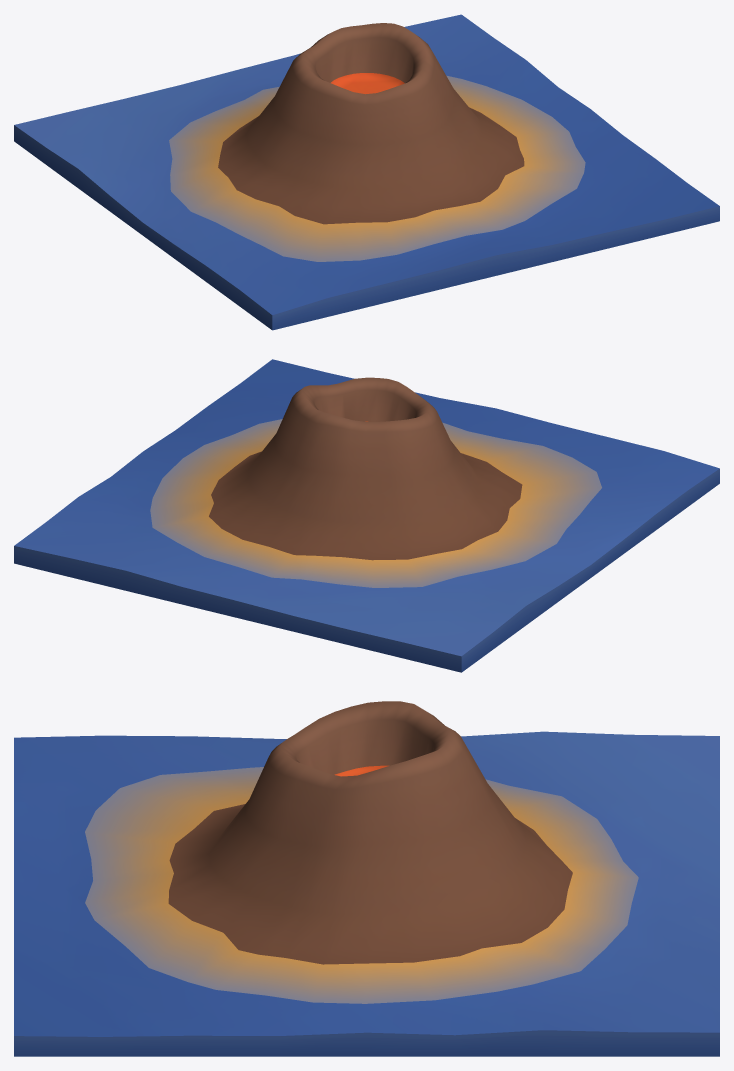
File: OBJ_VolcanoModel.fbx
3 renders of one model, top to bottom at view 1: azimuth 30°, elevation 25°; view 2: azimuth 150°, elevation 25°; view 3: azimuth 270°, elevation 25°, orthographic. The views are drawn at different scales.
Visible parts, largest first — view 1: OBJ_Volcano; view 2: OBJ_Volcano; view 3: OBJ_Volcano.
Boxes of the visible parts, x1,y1,x2,y2 form: OBJ_Volcano: (14, 14, 719, 330); OBJ_Volcano: (14, 359, 719, 672); OBJ_Volcano: (14, 701, 719, 1056).
Bounding box in the file's own units: 157 × 44.57 × 157.
